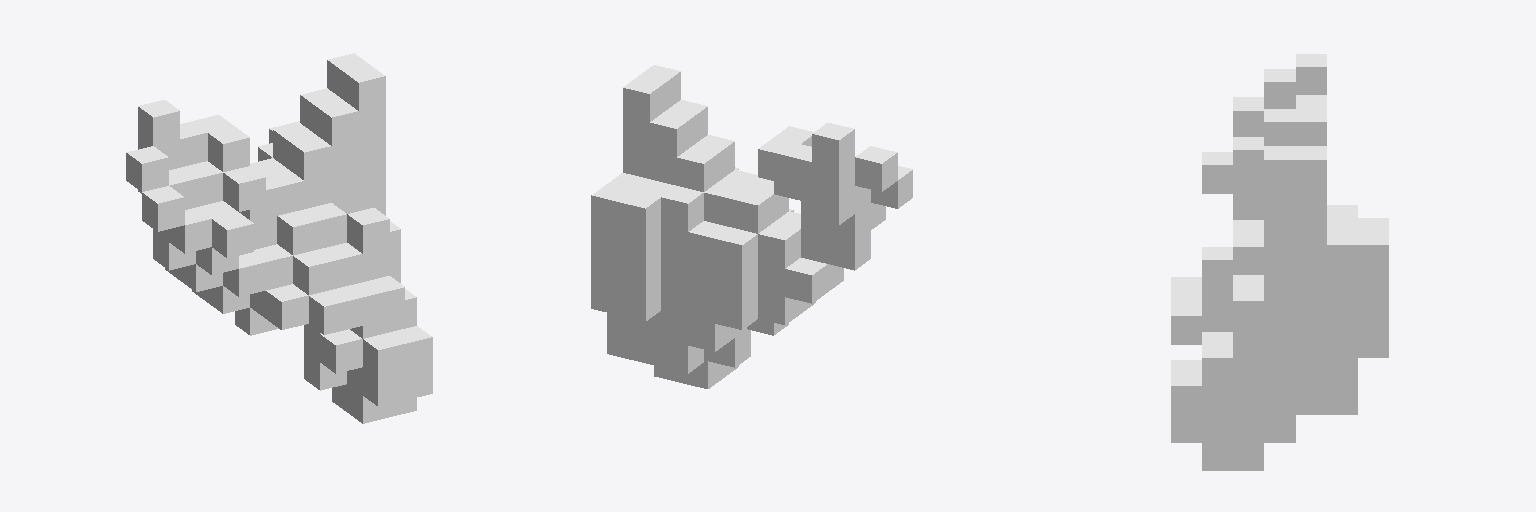
The model's file is Plant4.obj.
The picture shows the model from 3 angles: view 1: azimuth 30°, elevation 25°; view 2: azimuth 150°, elevation 25°; view 3: azimuth 270°, elevation 25°; orthographic projection.
Visible parts, largest first — view 1: object 1; view 2: object 1; view 3: object 1.
Boxes of the visible parts, <box> form: object 1: <box>126,53,432,423</box>; object 1: <box>591,65,912,388</box>; object 1: <box>1171,54,1388,470</box>.
Size of the model in its own units: 0.9 by 1.1 by 0.7.